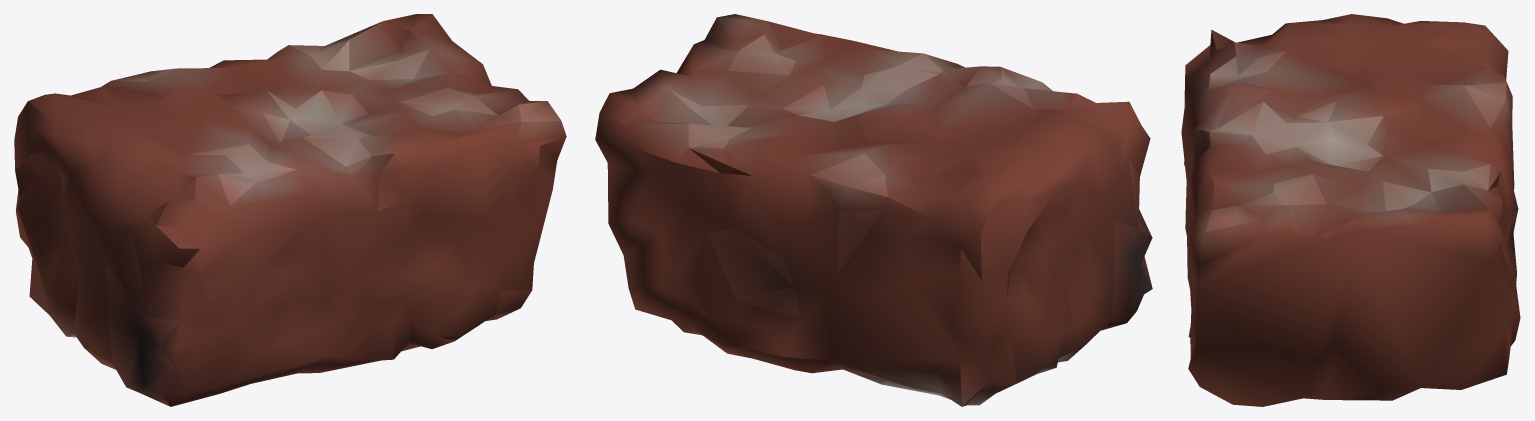
File: ember_brick_chunk_a_lod1.glb
3 views of the same model, side by side, from view 1: azimuth 30°, elevation 25°; view 2: azimuth 150°, elevation 25°; view 3: azimuth 270°, elevation 25° (orthographic).
Visible parts, largest first — view 1: ember_brick_chunk_a.001; view 2: ember_brick_chunk_a.001; view 3: ember_brick_chunk_a.001.
Boxes of the visible parts, x1,y1,x2,y2 form: ember_brick_chunk_a.001: (14,14,566,406); ember_brick_chunk_a.001: (595,14,1152,406); ember_brick_chunk_a.001: (1181,14,1520,406).
Bounding box in the file's own units: 7.39 × 3.93 × 5.14.
